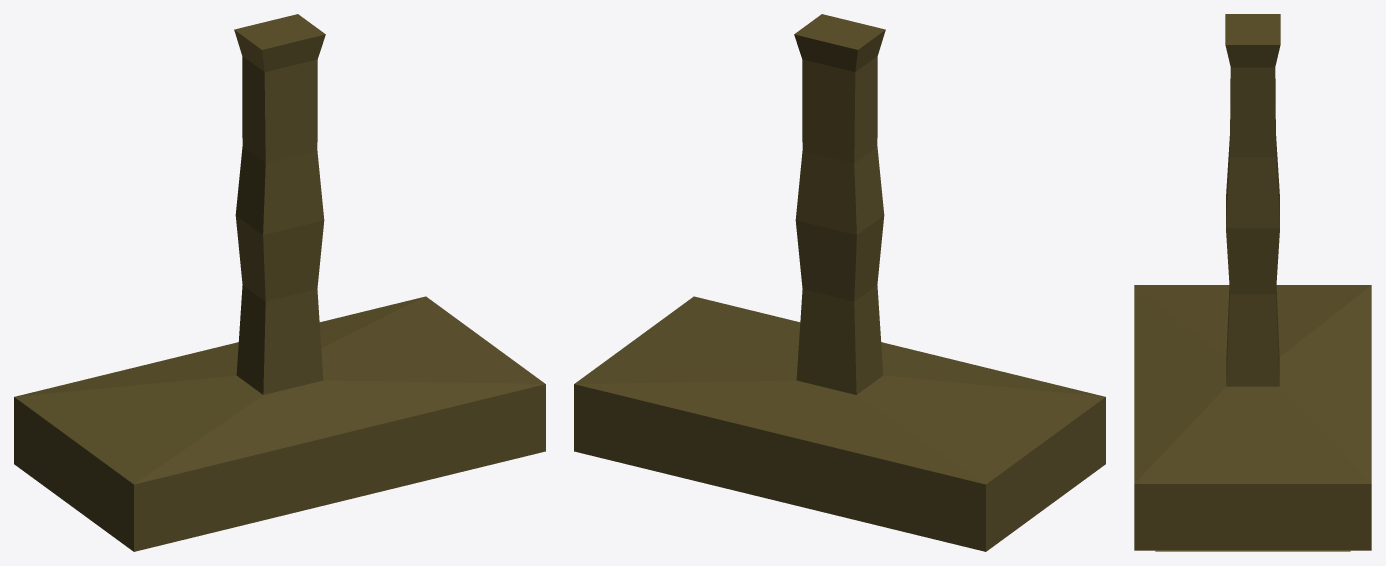
The model's file is CARIMBO.fbx.
3 renders of one model, left to right at view 1: azimuth 30°, elevation 25°; view 2: azimuth 150°, elevation 25°; view 3: azimuth 270°, elevation 25°, orthographic.
Parts seen in each view (by area): view 1: Cube; view 2: Cube; view 3: Cube.
Part boxes in pixels (x1,y1,x2,y2): Cube: [14, 14, 545, 551]; Cube: [574, 14, 1105, 551]; Cube: [1134, 14, 1371, 551].
Bounding box in the file's own units: 107 × 107 × 53.72.
